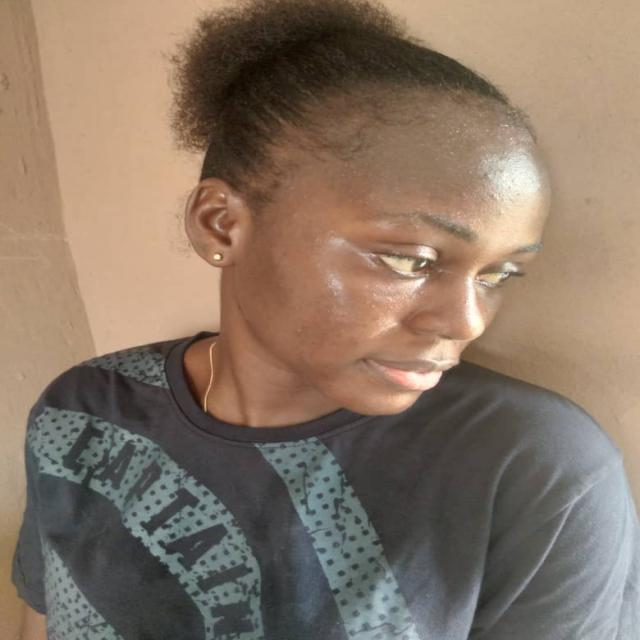sad: (178, 13, 556, 424)
